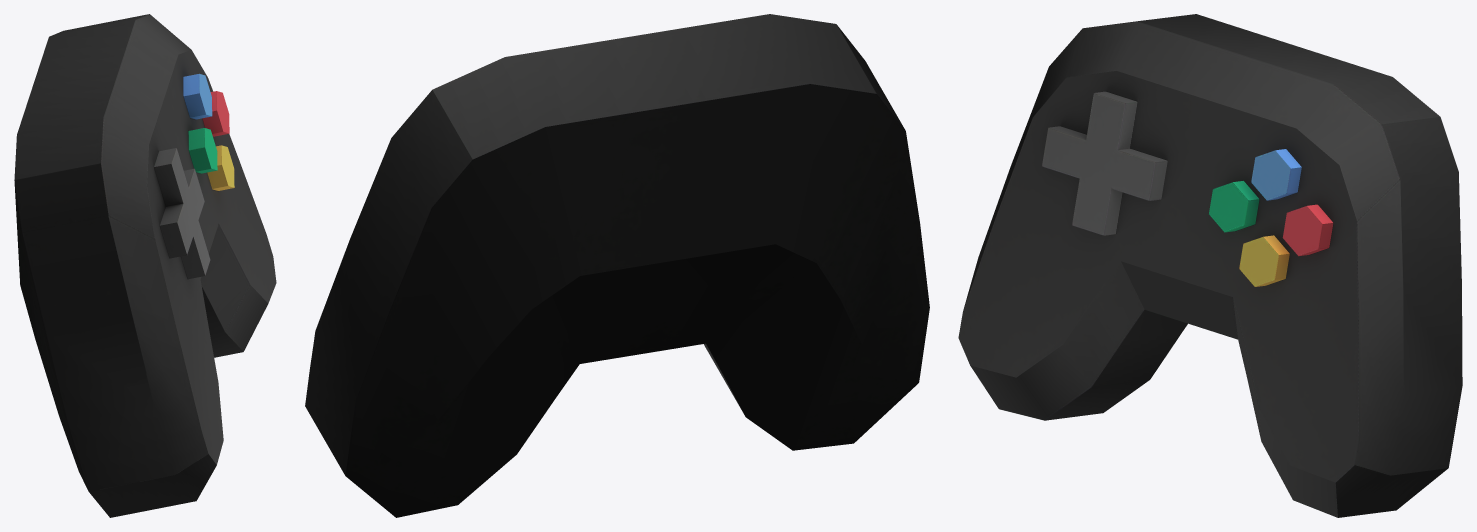
File: Emoji_video_game.glb
3 views of the same model, side by side, from view 1: azimuth 30°, elevation 25°; view 2: azimuth 150°, elevation 25°; view 3: azimuth 270°, elevation 25° (orthographic). The views are drawn at different scales.
Parts seen in each view (by area): view 1: Emoji; view 2: Emoji; view 3: Emoji.
Boxes of the visible parts, x1,y1,x2,y2 form: Emoji: [14, 14, 276, 517]; Emoji: [305, 14, 929, 517]; Emoji: [958, 14, 1462, 517].
Bounding box in the file's own units: 0.5564 × 0.5344 × 0.6133.
1 material, 1 textured.
